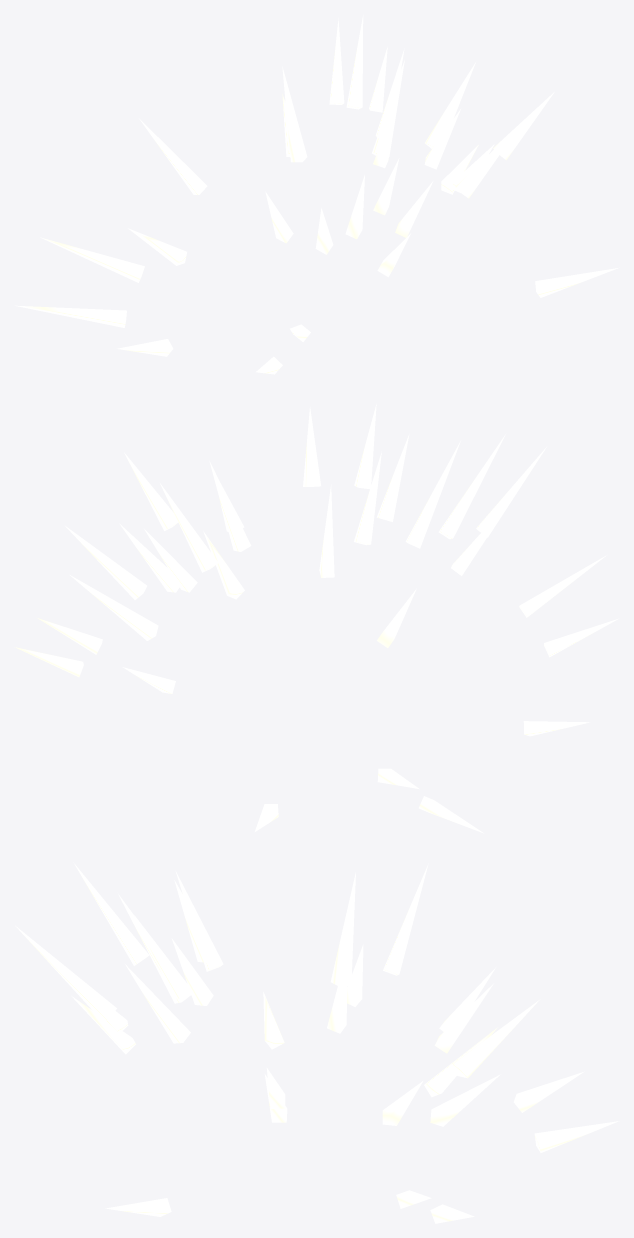
The model's file is fx_burst_club.glb.
The picture shows the model from 3 angles, top to bottom: view 1: azimuth 30°, elevation 25°; view 2: azimuth 150°, elevation 25°; view 3: azimuth 270°, elevation 25°; orthographic projection. The views are drawn at different scales.
Visible parts, largest first — view 1: fx_burst_club; view 2: fx_burst_club; view 3: fx_burst_club.
Part boxes in pixels (x1=…): fx_burst_club: x1=15, y1=15, x2=619, y2=374; fx_burst_club: x1=14, y1=404, x2=618, y2=833; fx_burst_club: x1=15, y1=862, x2=619, y2=1223.
Size of the model in its own units: 2.02 by 1.13 by 2.01.
